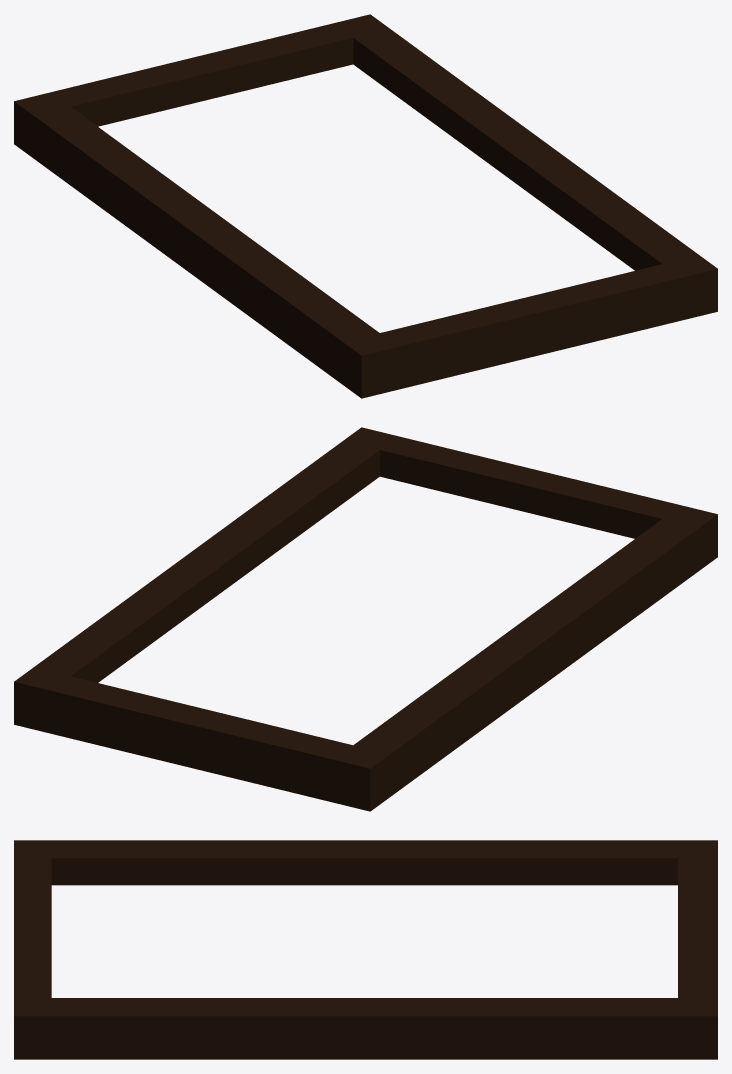
File: SM_TA_TableBorder.FBX
3 renders of one model, top to bottom at view 1: azimuth 30°, elevation 25°; view 2: azimuth 150°, elevation 25°; view 3: azimuth 270°, elevation 25°, orthographic.
Visible parts, largest first — view 1: polySurface1; view 2: polySurface1; view 3: polySurface1.
Boxes of the visible parts, x1=… form: polySurface1: x1=14, y1=14, x2=717, y2=398; polySurface1: x1=14, y1=427, x2=717, y2=811; polySurface1: x1=14, y1=840, x2=717, y2=1059.
Size of the model in its own units: 1868 by 215 by 3156.
